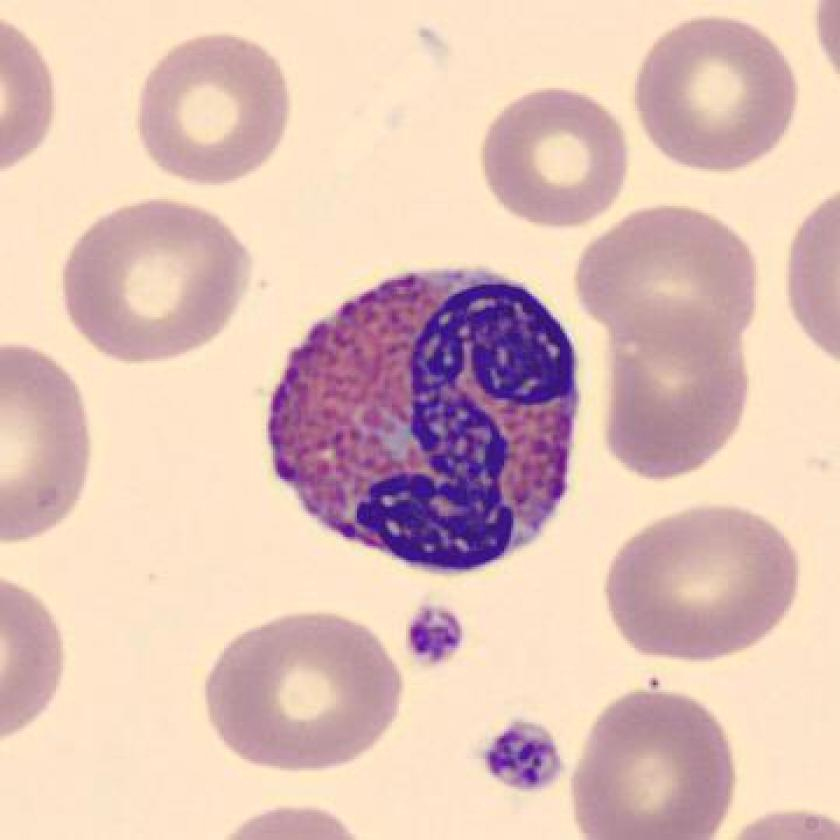eosinophil: (251, 256, 594, 584)
